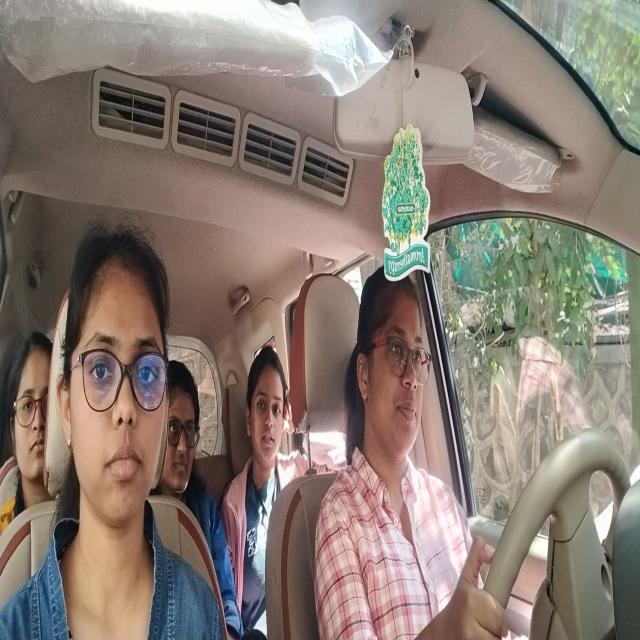person: (74, 242, 162, 517), (361, 270, 426, 456), (12, 342, 48, 487), (166, 367, 198, 501), (252, 344, 289, 458)
